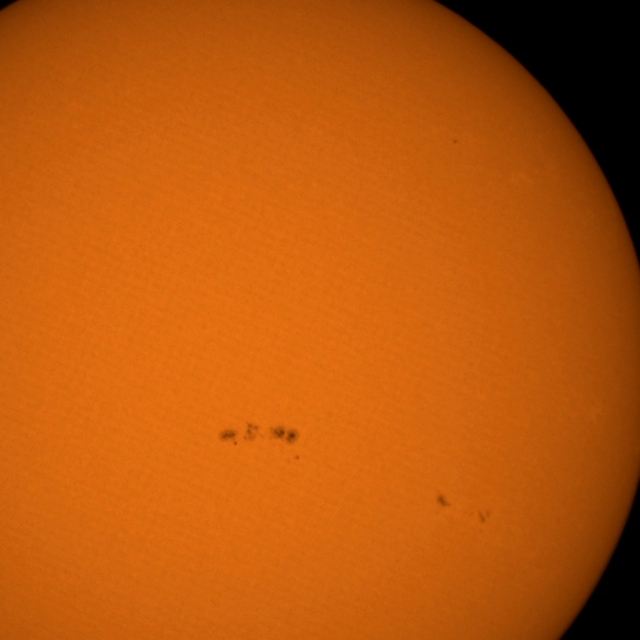sunspot: (237, 422, 300, 448), (435, 492, 452, 510), (476, 508, 492, 526), (293, 453, 301, 462), (451, 138, 459, 146)
